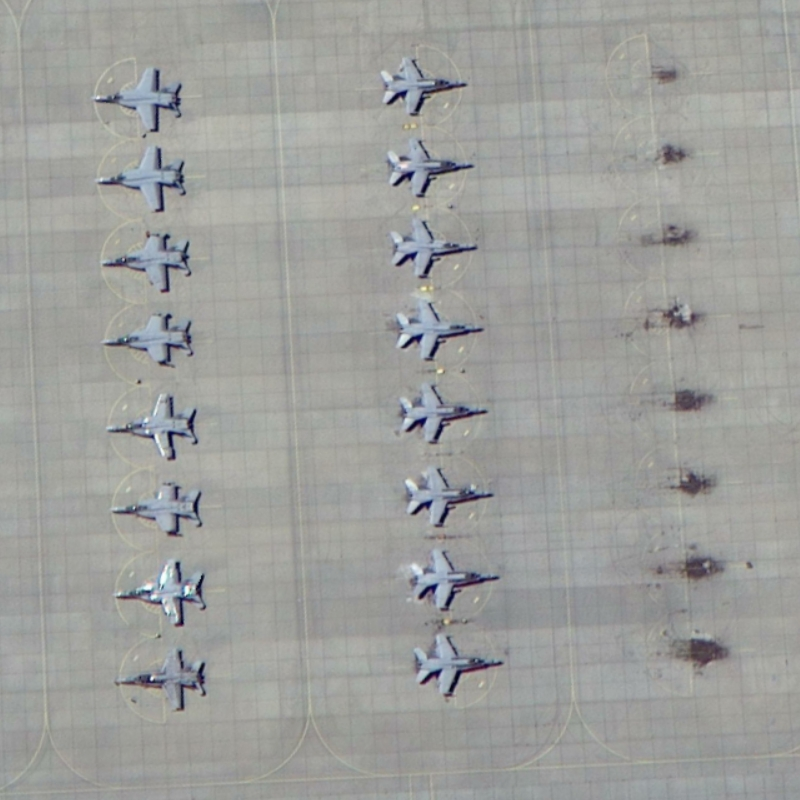A16: (97, 387, 203, 466), (105, 645, 218, 717), (108, 554, 212, 631), (87, 137, 191, 213), (91, 58, 190, 137), (405, 627, 509, 702), (95, 226, 199, 299), (376, 131, 482, 202), (385, 294, 488, 366), (404, 542, 502, 617), (99, 472, 207, 540), (393, 378, 494, 448), (384, 211, 480, 283), (376, 51, 473, 122), (400, 460, 498, 530), (95, 309, 202, 372)
